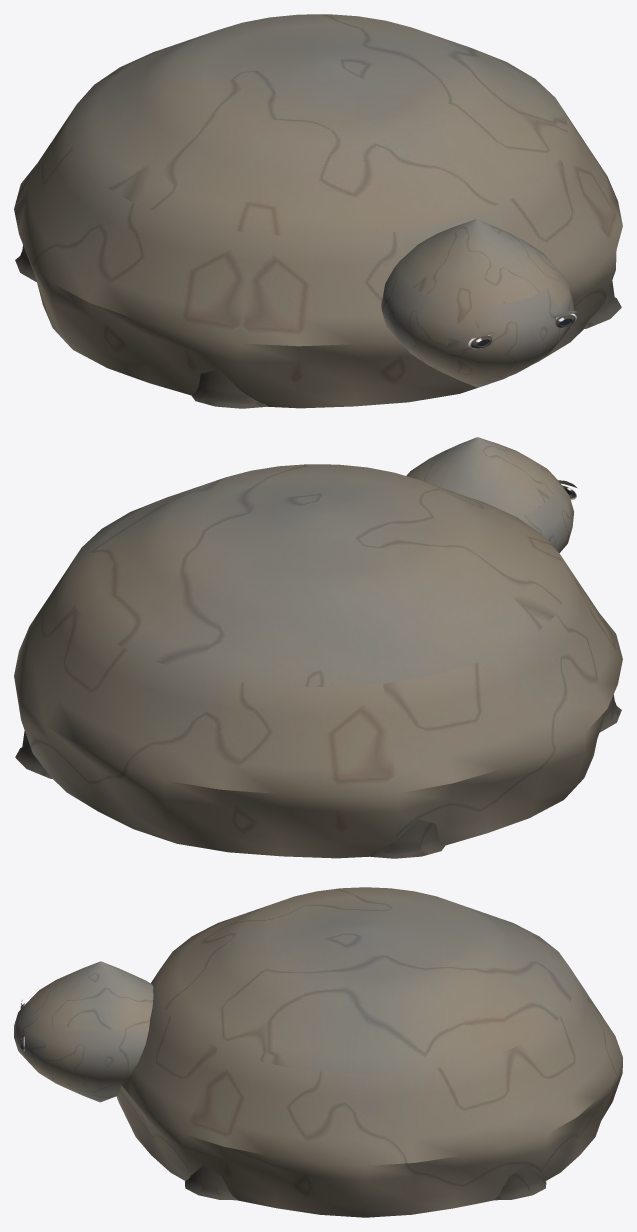
Rendered from sp_iwagame-sd2n4bg0.glb.
3 renders of one model, top to bottom at view 1: azimuth 30°, elevation 25°; view 2: azimuth 150°, elevation 25°; view 3: azimuth 270°, elevation 25°, orthographic. The views are drawn at different scales.
Parts seen in each view (by area): view 1: Shell, HeadMesh, Legs; view 2: Shell, HeadMesh, Legs; view 3: Shell, HeadMesh, Legs.
Part boxes in pixels (box(x1,y1,x2,y2)): Shell: box(14, 14, 622, 408); HeadMesh: box(381, 219, 577, 387); Legs: box(15, 245, 621, 408); Shell: box(14, 464, 622, 858); HeadMesh: box(406, 437, 576, 552); Legs: box(15, 694, 621, 858); Shell: box(116, 887, 622, 1217); HeadMesh: box(14, 961, 153, 1102); Legs: box(185, 1165, 546, 1200).
Bounding box in the file's own units: 0.707 × 0.3019 × 0.8364.
Materials: 1 (1 with a texture image).
